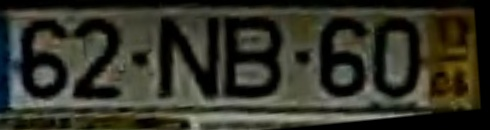0: (371, 14, 421, 103)
2: (69, 17, 123, 101)
6: (313, 14, 370, 102), (15, 18, 70, 104)
B: (223, 13, 285, 102)
N: (155, 14, 221, 103)
